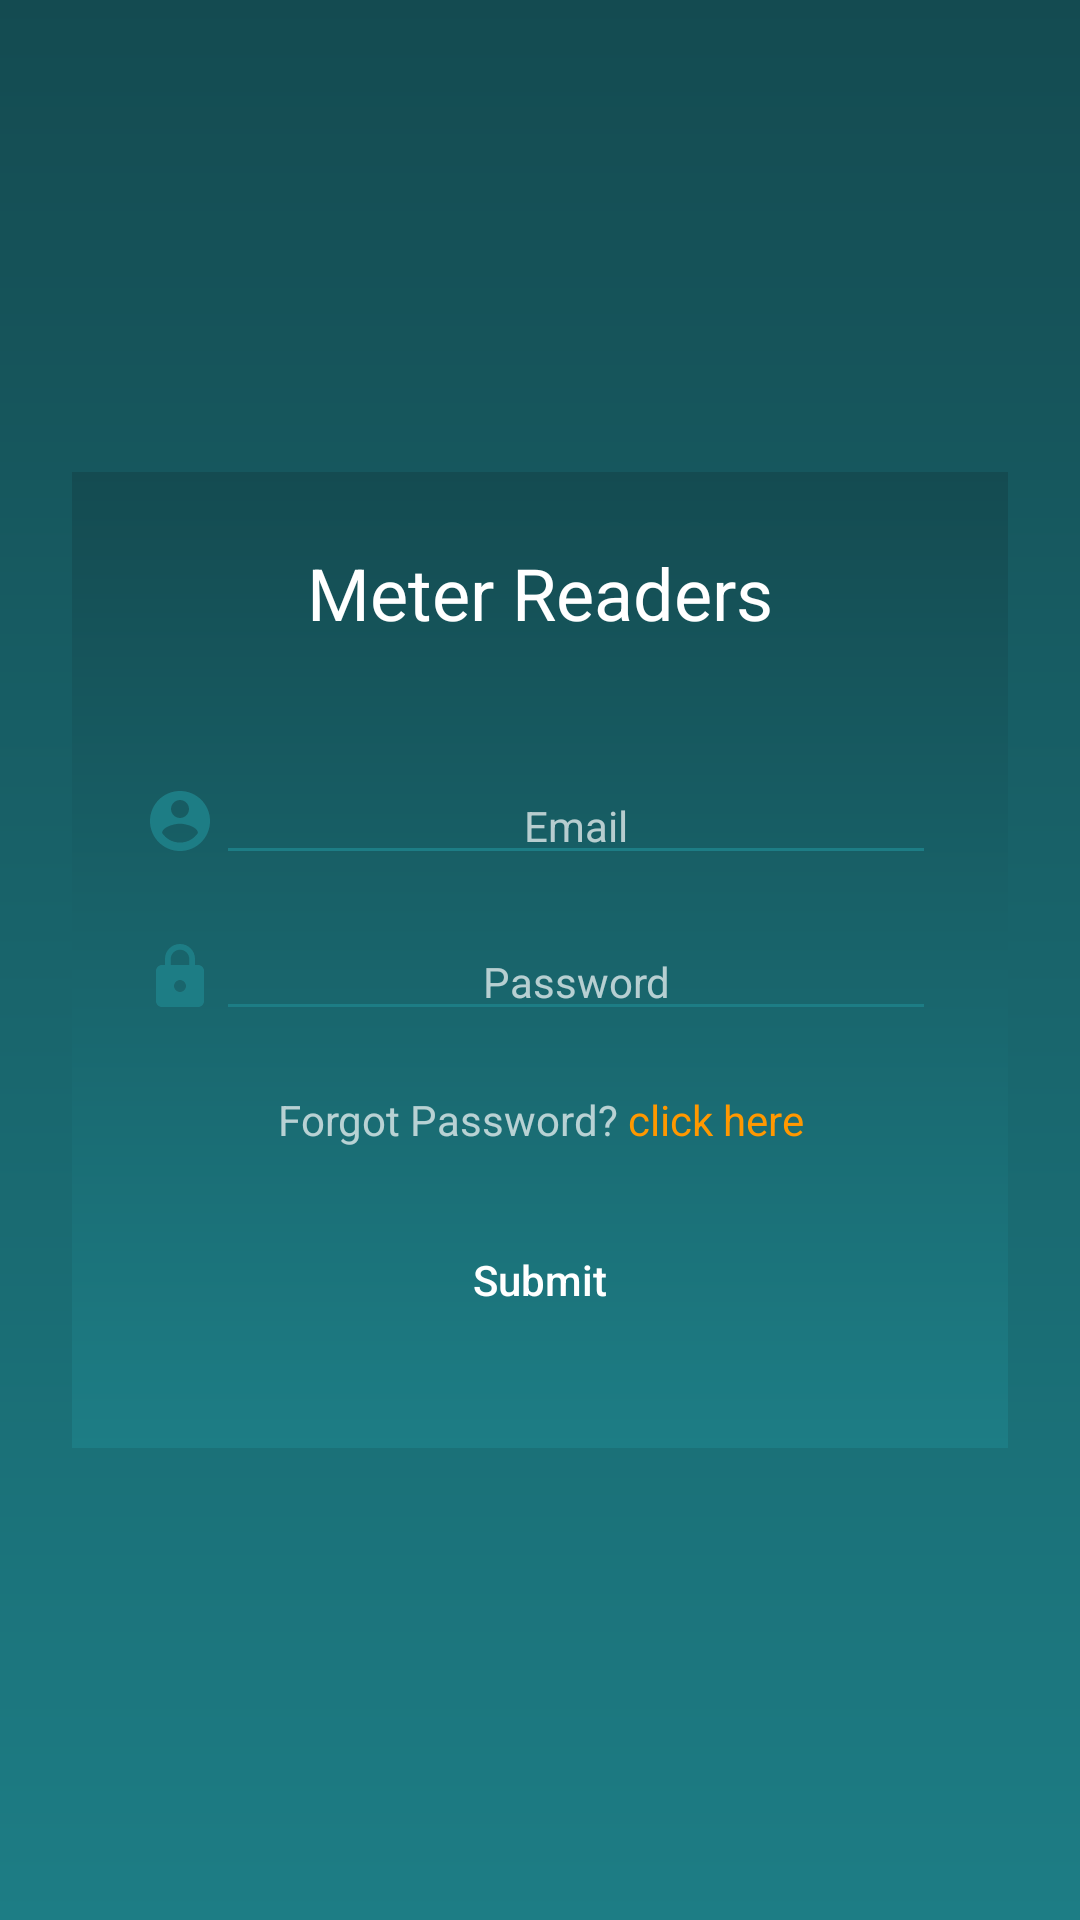

Point at icon controls on the screen. Image size 1080*1920, points as [x,y].
account circle: [180,821]
